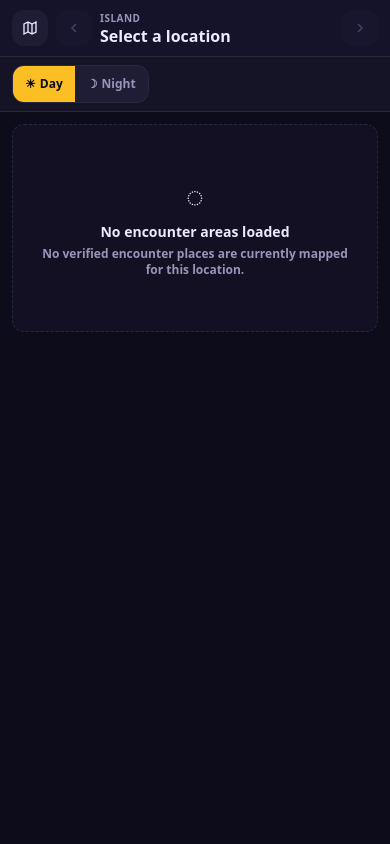
screen resource states › keeps desktop and mobile location navigation available
Click the button named "Open island map and location navigation".
click(30, 28)  # box [12,10,48,46]
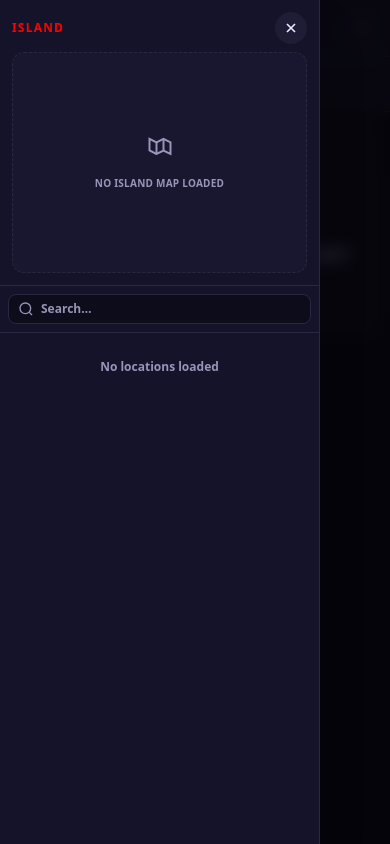
Result: the dialog named "Location navigation" is shown
